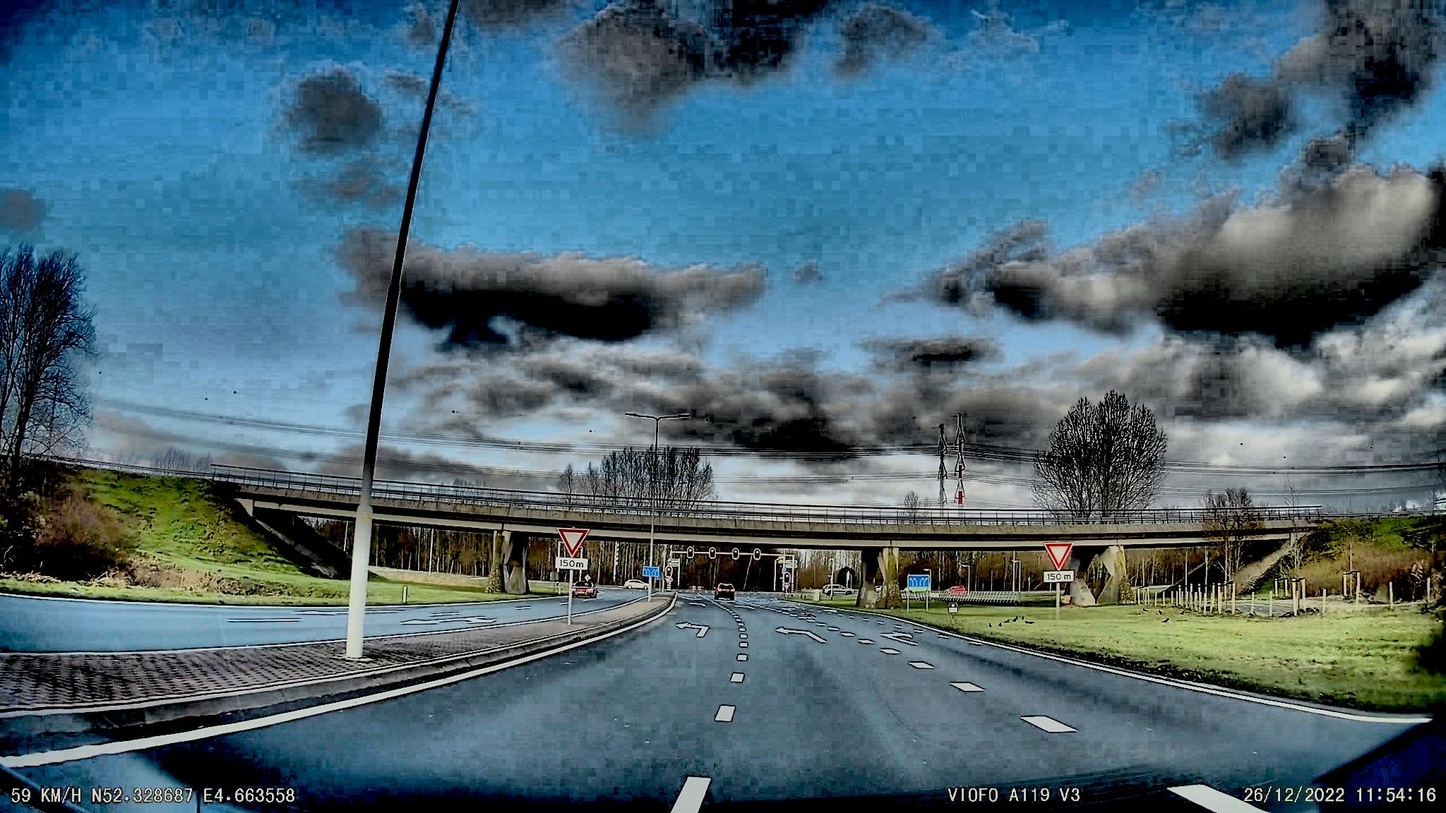Roads: (0, 597, 1446, 813)
